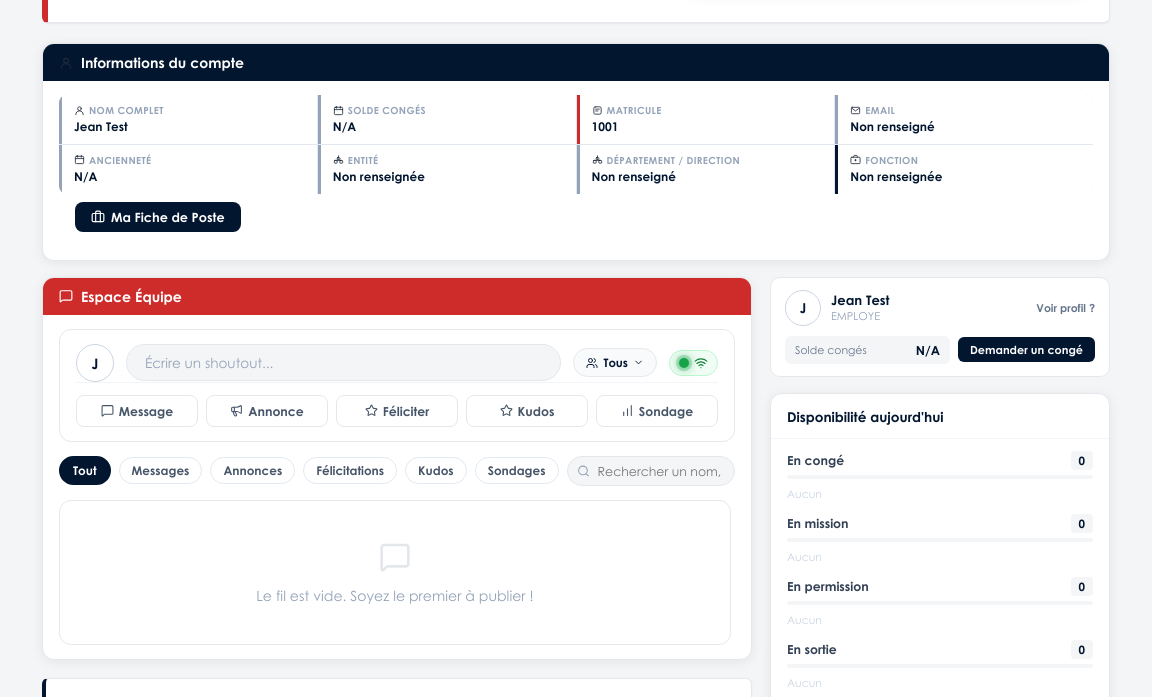
Test: Home — Demander un congé modal › opens the leave modal when clicking the button
The width and height of the screenshot is (1152, 697).
(page scrolled)
Click the button "Demander un congé": (1026, 350) [958,337,1095,362]
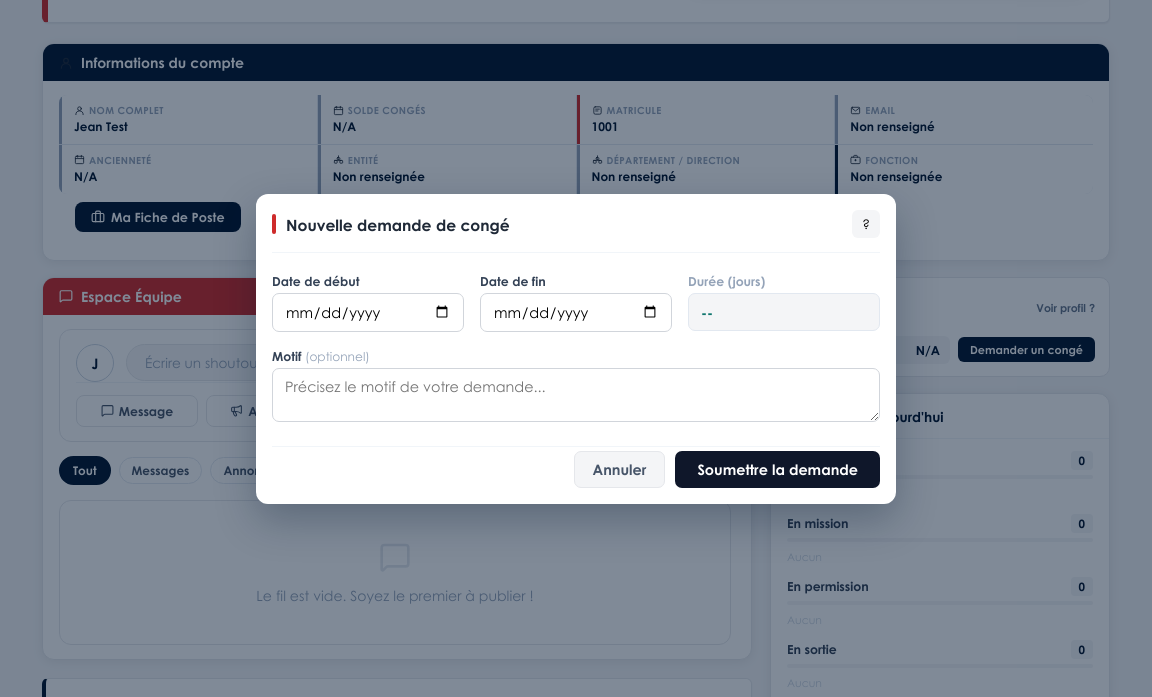
Check: the text "Nouvelle demande de congé" is shown, box [286,214,510,234]
